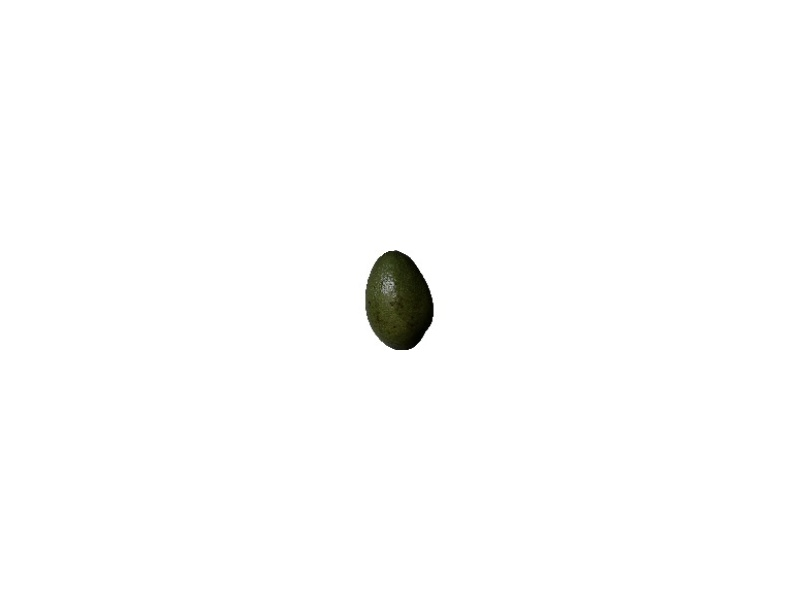abacate: (363, 248, 435, 353)
